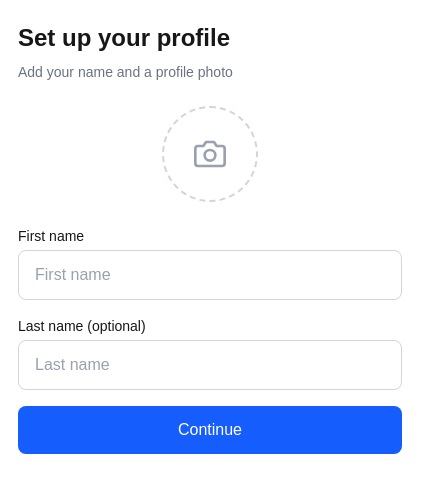
Test: SetupProfilePage › shows validation error when first name is empty on submit
Click the button with aria-label "save profile" at (210, 430), box [18,406,402,454]
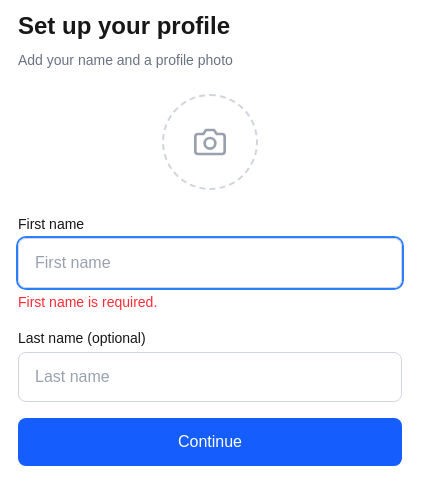
Expected: the text "First name is required." is shown, [18,294,157,310]
